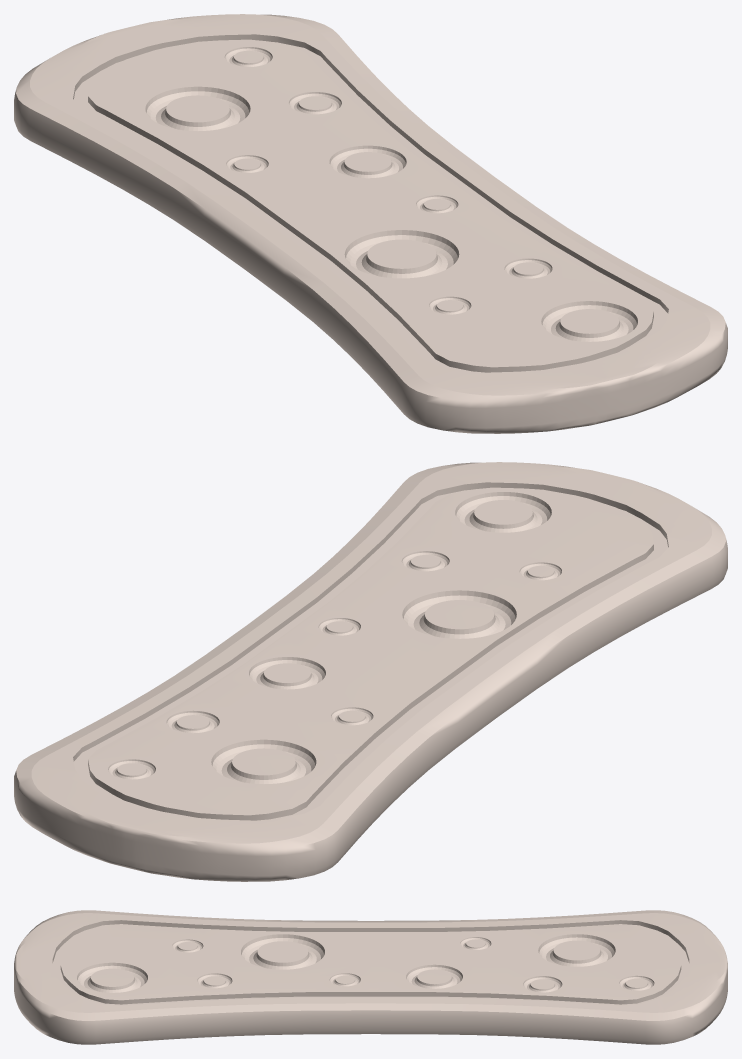
The model's file is PantyLiner.fbx.
The picture shows the model from 3 angles, top to bottom: view 1: azimuth 30°, elevation 25°; view 2: azimuth 150°, elevation 25°; view 3: azimuth 270°, elevation 25°; orthographic projection. The views are drawn at different scales.
Parts seen in each view (by area): view 1: Cube; view 2: Cube; view 3: Cube.
Boxes of the visible parts, x1,y1,x2,y2 form: Cube: [14, 14, 727, 433]; Cube: [14, 462, 727, 881]; Cube: [14, 910, 727, 1044].
Bounding box in the file's own units: 106 × 13.21 × 286.
